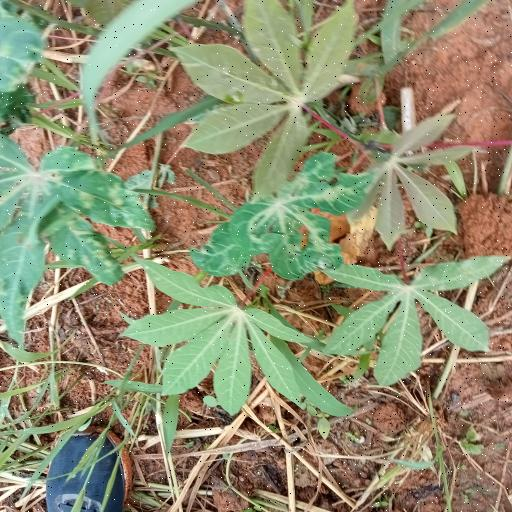Cassava_Mosaic: (180, 6, 353, 196), (0, 150, 142, 339), (138, 266, 317, 409), (328, 265, 495, 388)
